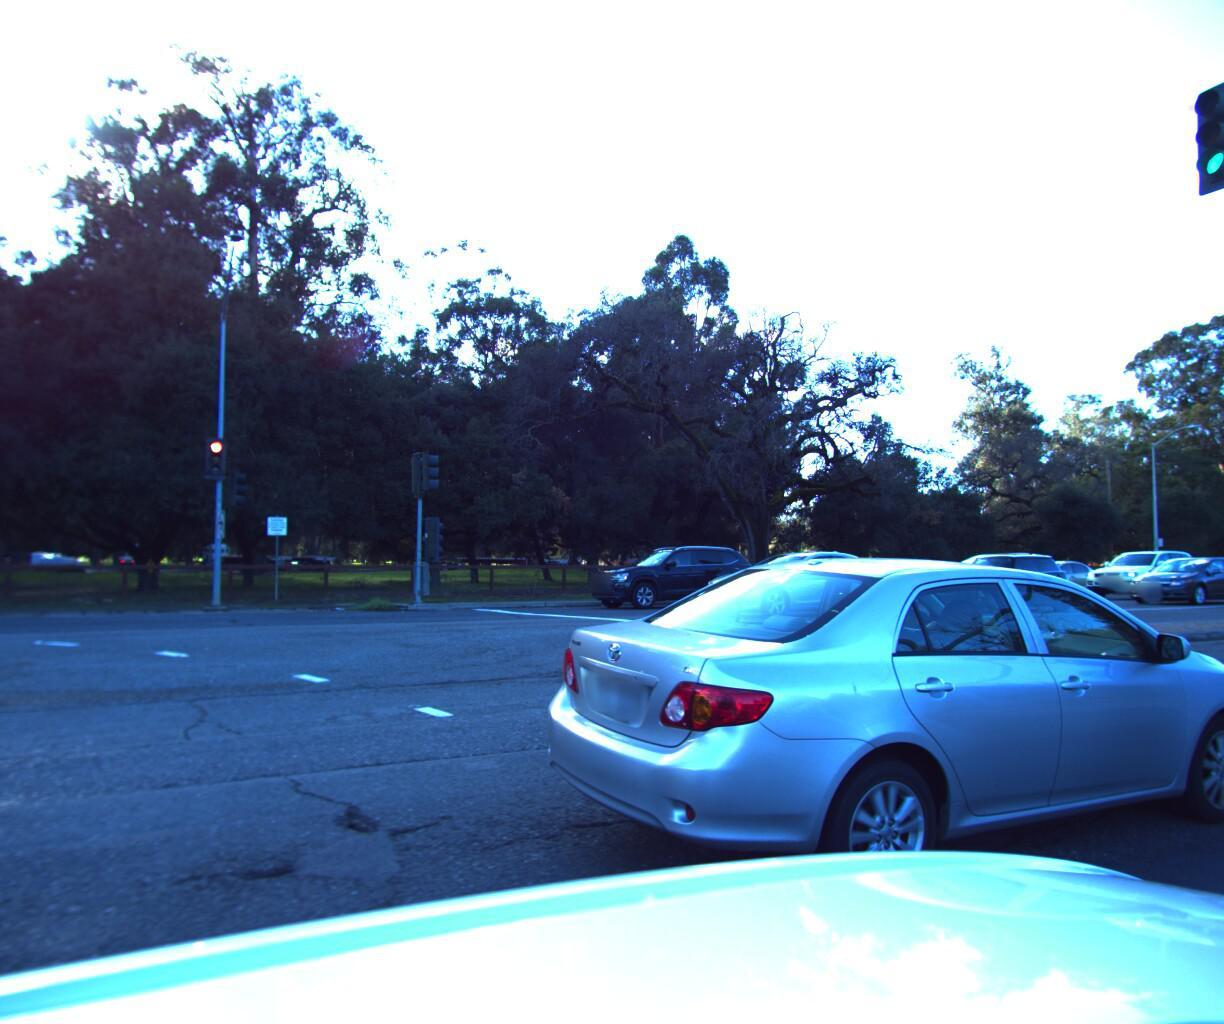car: (508, 514, 1224, 965), (685, 542, 906, 617), (578, 537, 767, 608), (921, 544, 1081, 610), (913, 544, 1066, 602), (1069, 542, 1207, 595), (814, 553, 955, 599), (1114, 548, 1224, 600), (990, 553, 1108, 593), (1222, 552, 1224, 590)
